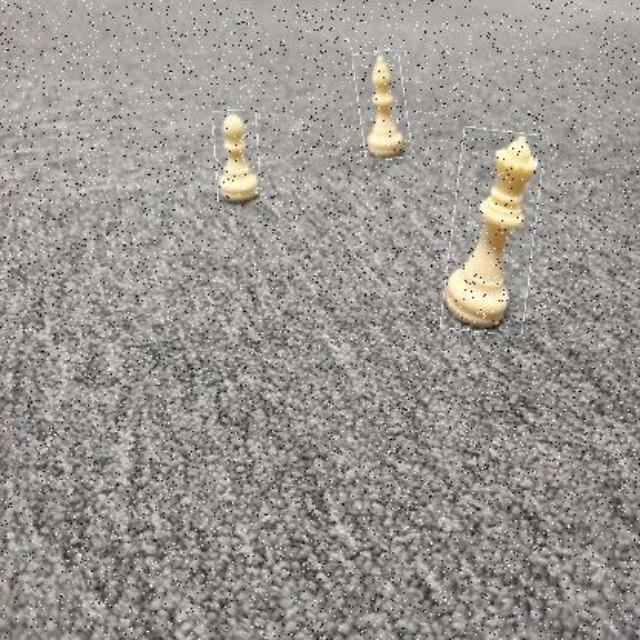white-bishop: (357, 51, 409, 160)
white-pawn: (214, 110, 260, 203)
white-queen: (447, 129, 539, 335)
